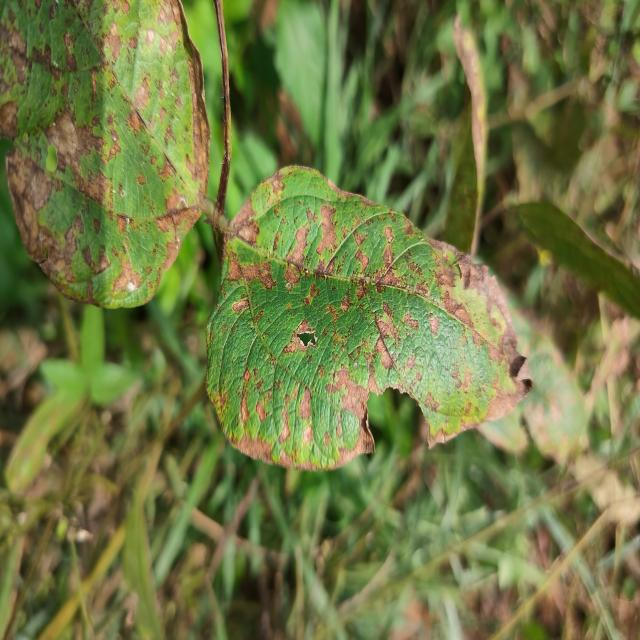Black gram_leaf spot: (206, 165, 532, 470), (0, 0, 210, 307)
